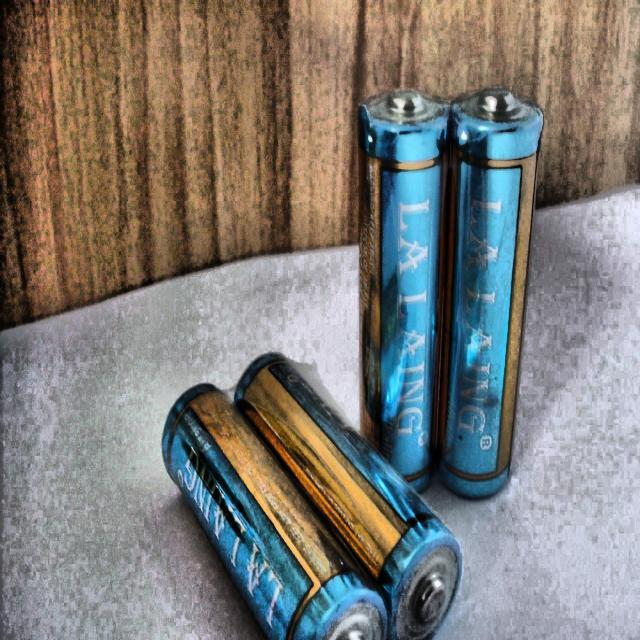Non-Valuable Waste - Batteries: (235, 353, 461, 639), (162, 384, 388, 639), (439, 87, 542, 498), (359, 89, 450, 491)
